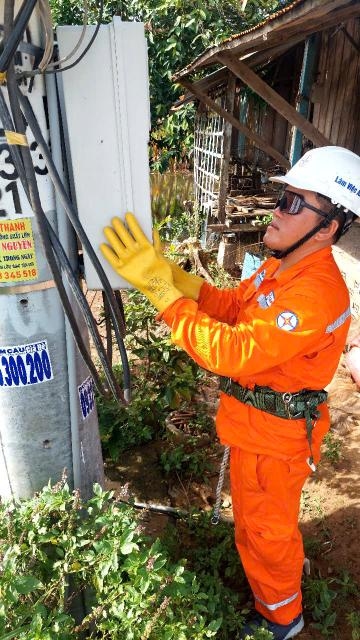gloves: (90, 212, 200, 314)
harness: (201, 365, 330, 434)
helmet: (263, 141, 360, 220)
shoes: (238, 598, 323, 640)
